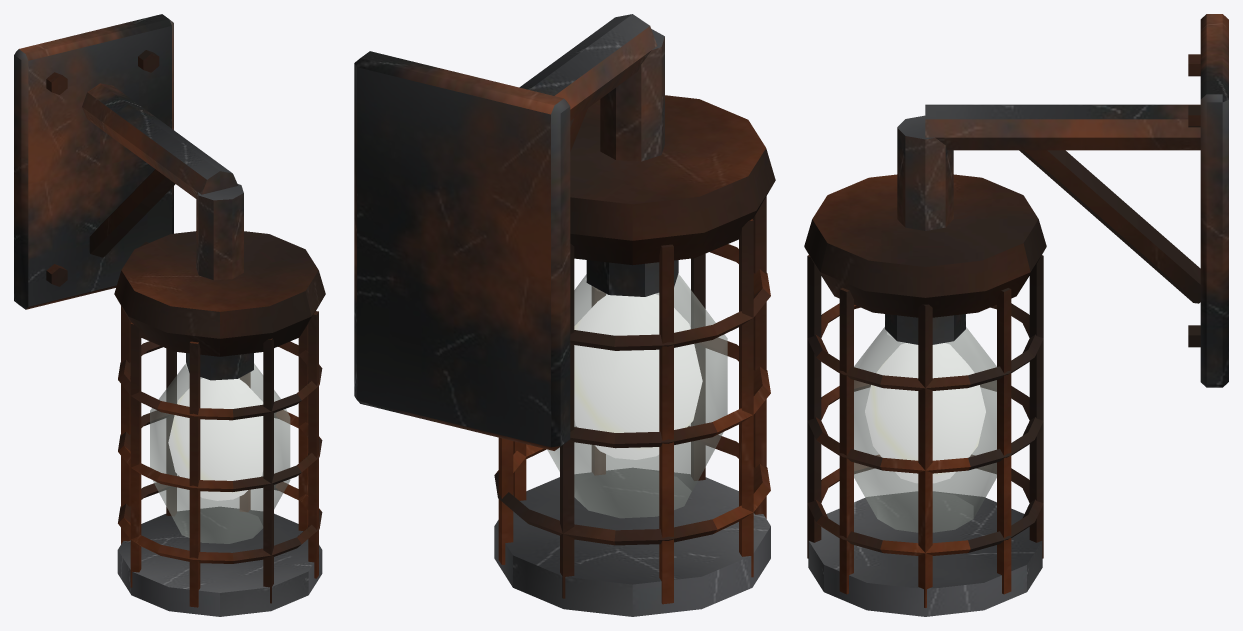
The model's file is light_caged_work_light.glb.
The picture shows the model from 3 angles, left to right: view 1: azimuth 30°, elevation 25°; view 2: azimuth 150°, elevation 25°; view 3: azimuth 270°, elevation 25°; orthographic projection. The views are drawn at different scales.
Parts seen in each view (by area): view 1: Body, Rust, Glass, Bulb; view 2: Body, Rust, Glass, Bulb; view 3: Rust, Body, Glass, Bulb.
Boxes of the visible parts, x1=… form: Body: x1=14, y1=14, x2=322, y2=616; Rust: x1=46, y1=50, x2=325, y2=607; Glass: x1=150, y1=363, x2=290, y2=543; Bulb: x1=168, y1=378, x2=263, y2=500; Body: x1=354, y1=14, x2=770, y2=616; Rust: x1=494, y1=95, x2=775, y2=604; Glass: x1=547, y1=274, x2=727, y2=518; Bulb: x1=574, y1=294, x2=702, y2=459; Rust: x1=804, y1=54, x2=1200, y2=607; Body: x1=808, y1=14, x2=1228, y2=616; Glass: x1=854, y1=327, x2=996, y2=532; Bulb: x1=865, y1=343, x2=985, y2=483.
Size of the model in its own units: 0.12 by 0.28 by 0.21.
Materials: 4 (2 with a texture image).
